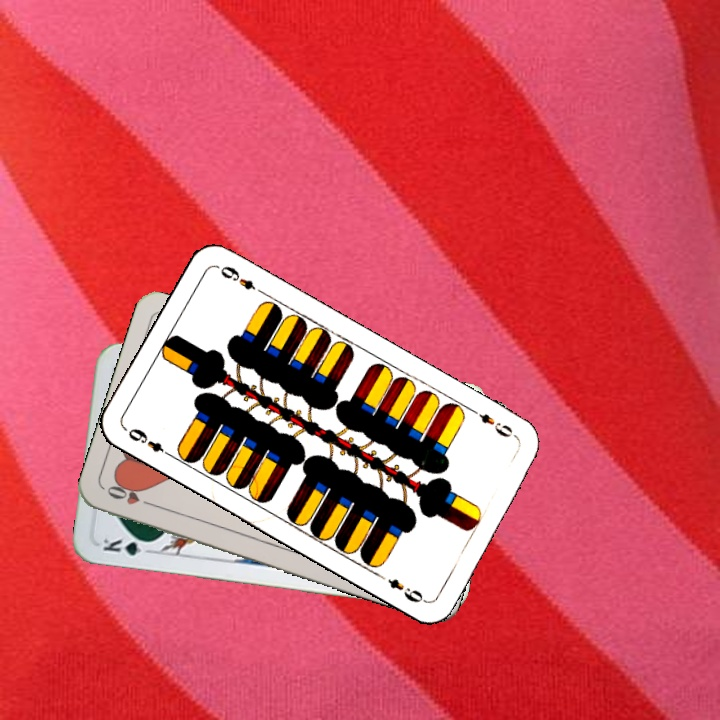E9: (121, 424, 175, 460), (467, 405, 521, 441)
GK: (99, 534, 156, 559)
HO: (102, 481, 159, 510)
